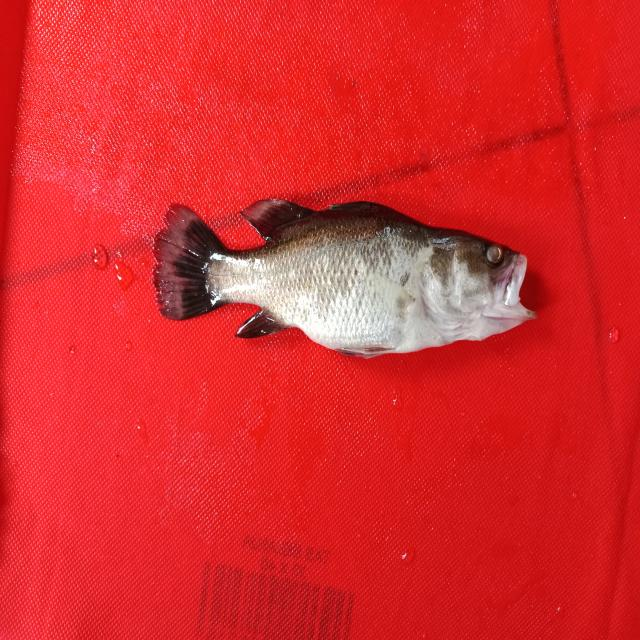ikan: (135, 162, 548, 382)
